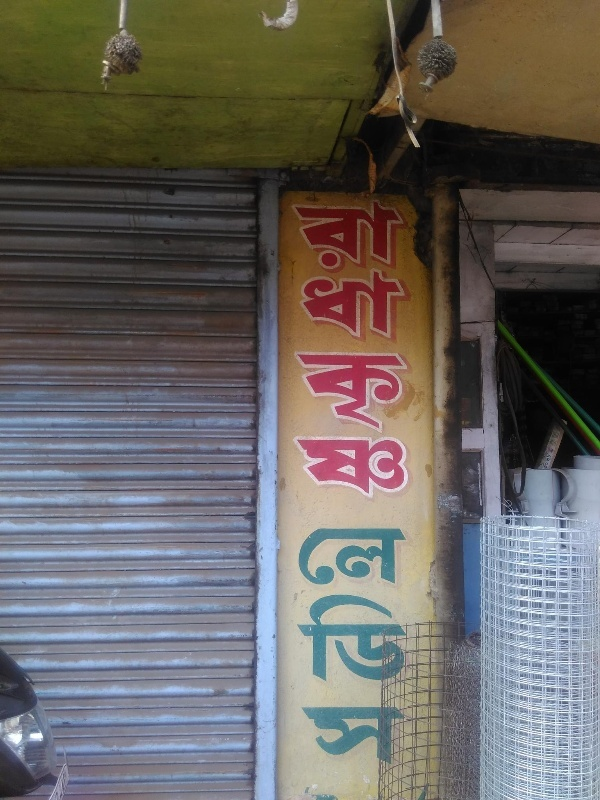text: (305, 195, 320, 503), (321, 195, 336, 503), (337, 195, 352, 503), (353, 195, 368, 503), (369, 195, 384, 503), (385, 195, 400, 503), (290, 195, 304, 503), (401, 195, 414, 503), (305, 524, 320, 767), (321, 524, 336, 767), (337, 524, 352, 767), (353, 524, 368, 767), (369, 524, 384, 767), (385, 524, 400, 767), (401, 524, 410, 767), (296, 524, 304, 767), (545, 427, 560, 474), (531, 427, 544, 474), (561, 427, 566, 474), (65, 772, 72, 800), (61, 772, 64, 800)
